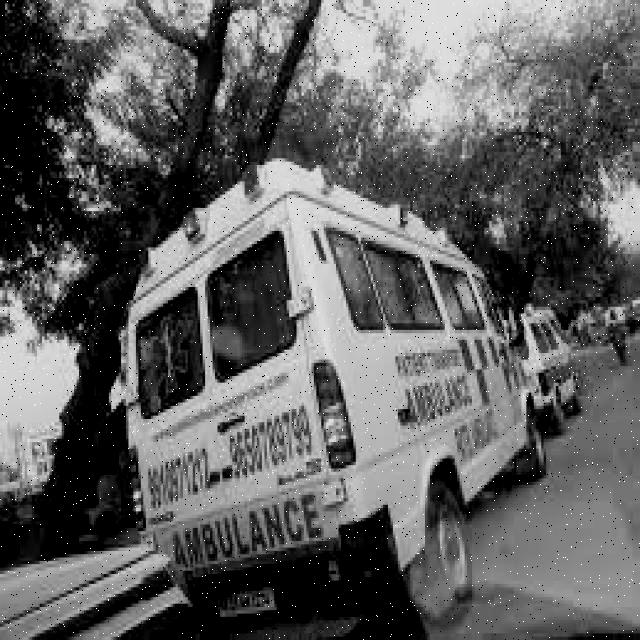LCV: (122, 159, 388, 612)
